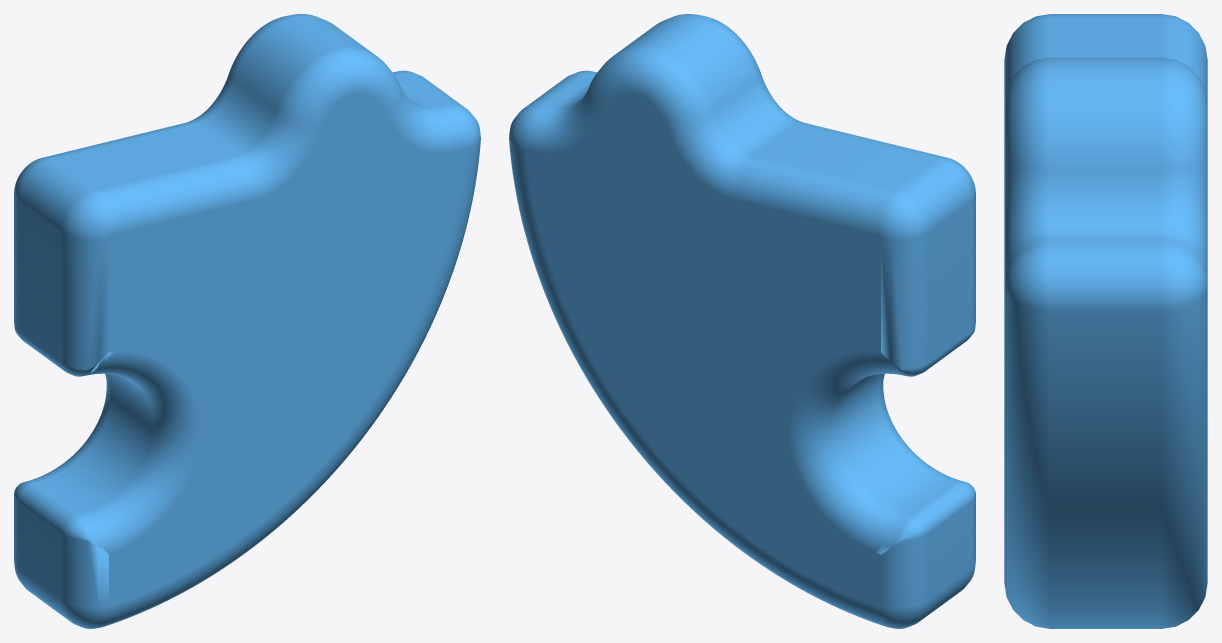
Rendered from blue-puzzle.glb.
3 views of the same model, side by side, from view 1: azimuth 30°, elevation 25°; view 2: azimuth 150°, elevation 25°; view 3: azimuth 270°, elevation 25° (orthographic). The views are drawn at different scales.
Parts seen in each view (by area): view 1: Shape 0.010; view 2: Shape 0.010; view 3: Shape 0.010.
Boxes of the visible parts, x1,y1,x2,y2 form: Shape 0.010: [14, 14, 480, 628]; Shape 0.010: [509, 14, 975, 628]; Shape 0.010: [1004, 14, 1207, 628].
Bounding box in the file's own units: 1.68 × 2 × 0.5419.
